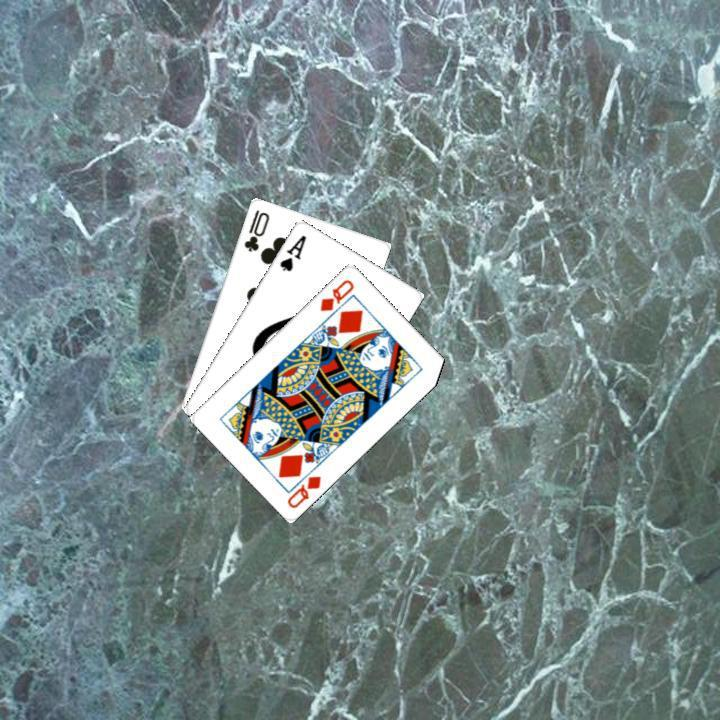10: (239, 205, 271, 254)
A: (275, 230, 308, 273)
Q: (283, 471, 323, 510), (316, 275, 356, 313)
